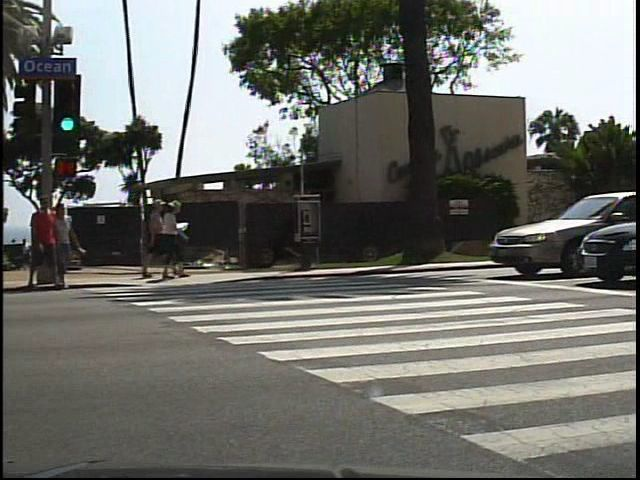person: (28, 195, 59, 303), (51, 200, 78, 287)
